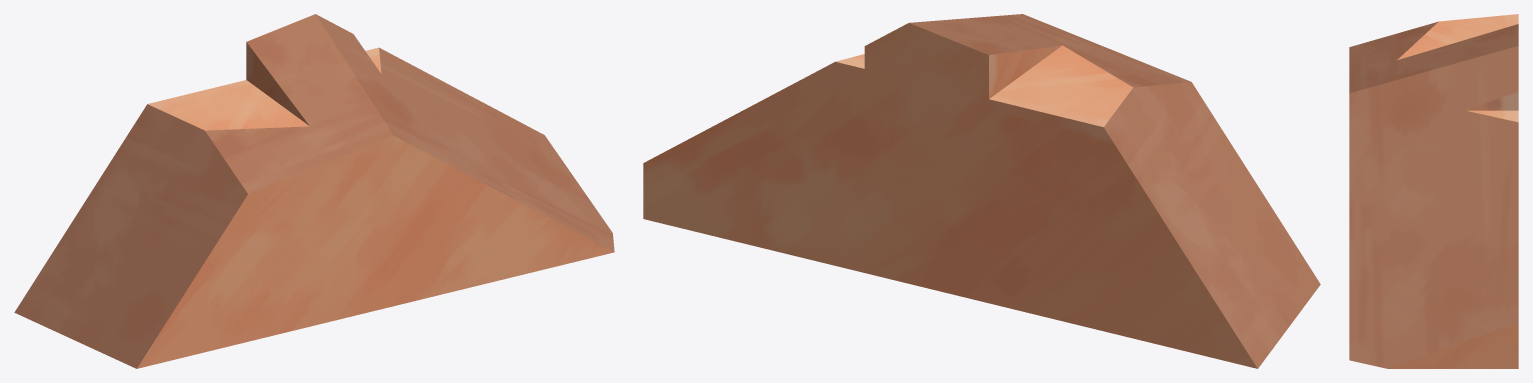
File: parapet_pierced_s00.fbx
The picture shows the model from 3 angles, left to right: view 1: azimuth 30°, elevation 25°; view 2: azimuth 150°, elevation 25°; view 3: azimuth 270°, elevation 25°; orthographic projection. The views are drawn at different scales.
Visible parts, largest first — view 1: parapet_pierced_s00; view 2: parapet_pierced_s00; view 3: parapet_pierced_s00.
Boxes of the visible parts, bbox=[...] form: parapet_pierced_s00: bbox=[14, 14, 614, 368]; parapet_pierced_s00: bbox=[643, 14, 1320, 368]; parapet_pierced_s00: bbox=[1349, 14, 1518, 368].
Bounding box in the file's own units: 3.47 × 1.41 × 1.
